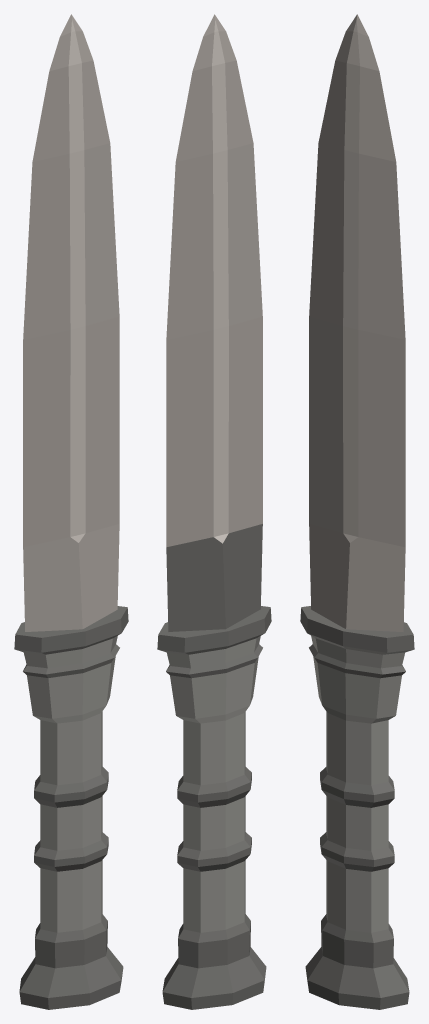
The model's file is SM_pwe_egypt_dagger_02.fbx.
The picture shows the model from 3 angles, left to right: view 1: azimuth 30°, elevation 25°; view 2: azimuth 210°, elevation 25°; view 3: azimuth 330°, elevation 25°; orthographic projection.
Visible parts, largest first — view 1: SM_pwe_egypt_dagger_02; view 2: SM_pwe_egypt_dagger_02; view 3: SM_pwe_egypt_dagger_02.
Part boxes in pixels (left/top/right/bottom): SM_pwe_egypt_dagger_02: left=14, top=14, right=128, bottom=1009; SM_pwe_egypt_dagger_02: left=157, top=14, right=271, bottom=1009; SM_pwe_egypt_dagger_02: left=300, top=14, right=414, bottom=1009.
Bounding box in the file's own units: 6.22 × 50.89 × 3.53.
